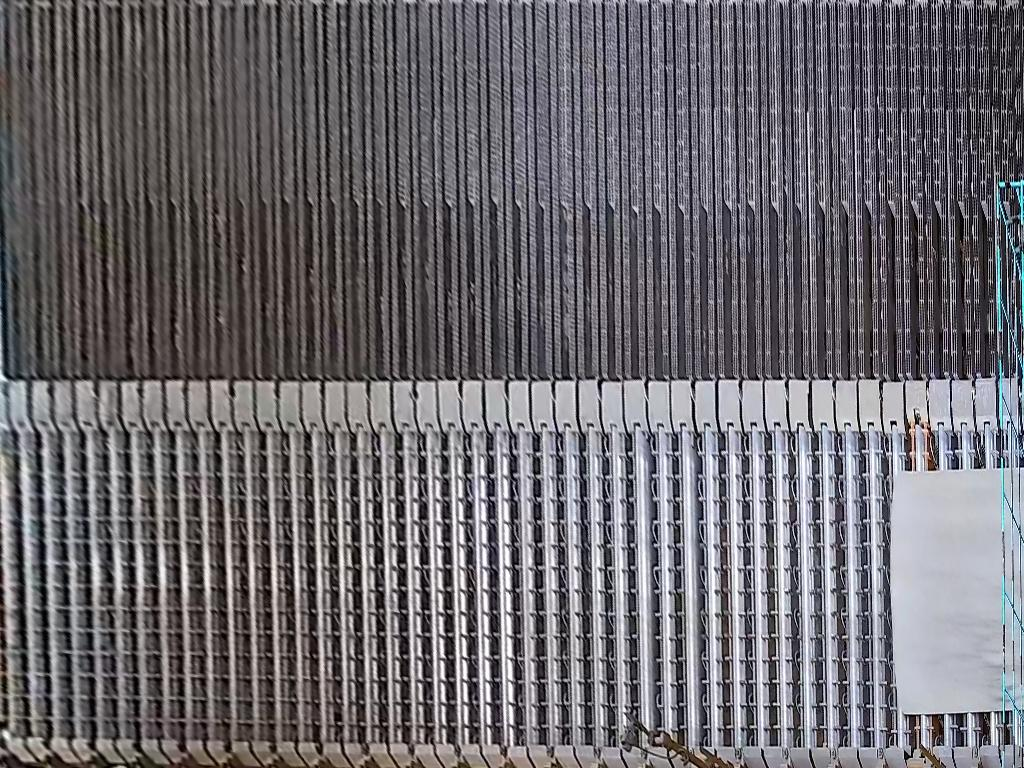steel: (892, 466, 1024, 718)
